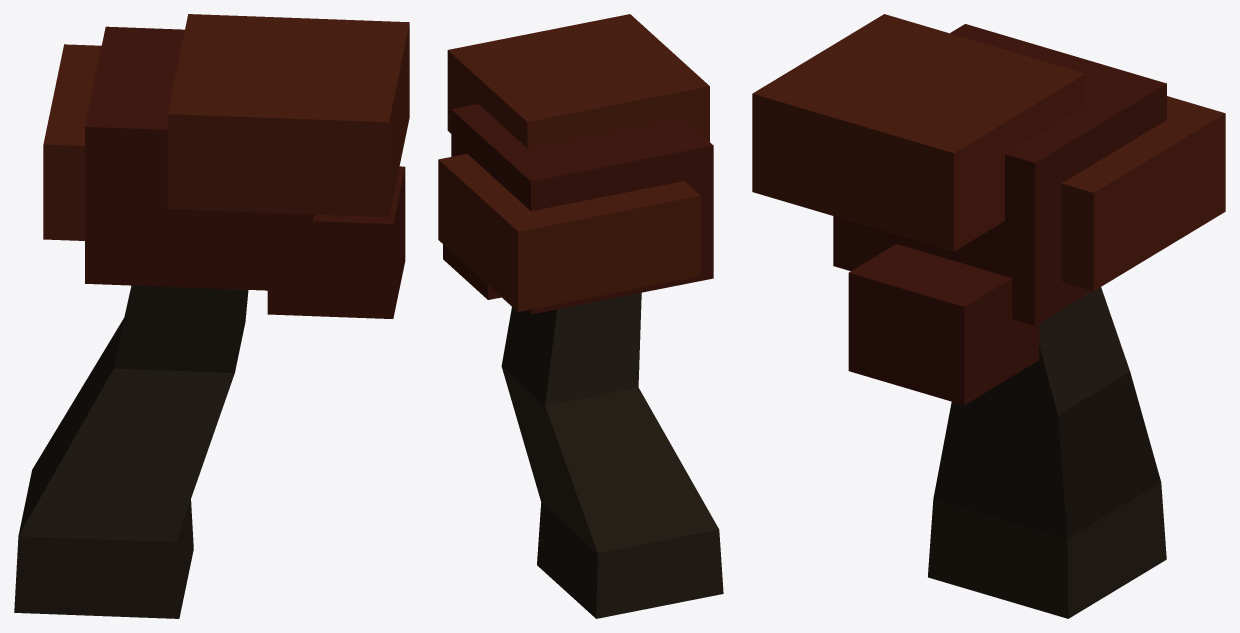
File: tree3.FBX
3 views of the same model, side by side, from view 1: azimuth 30°, elevation 25°; view 2: azimuth 150°, elevation 25°; view 3: azimuth 270°, elevation 25° (orthographic). The views are drawn at different scales.
Visible parts, largest first — view 1: Box215, Box229, Box228, Box230, Box227; view 2: Box215, Box227, Box229, Box228, Box230; view 3: Box215, Box229, Box228, Box230, Box227.
Part boxes in pixels (x1,y1,x2,y2): Box215: (14, 285, 248, 618); Box229: (167, 14, 409, 217); Box228: (85, 26, 313, 291); Box230: (267, 166, 405, 318); Box227: (43, 44, 101, 240); Box215: (501, 292, 723, 618); Box227: (438, 154, 700, 311); Box229: (447, 14, 709, 147); Box228: (451, 104, 713, 314); Box230: (443, 244, 501, 299); Box215: (928, 287, 1166, 618); Box229: (752, 14, 1085, 251); Box228: (833, 24, 1166, 325); Box230: (848, 244, 1039, 405); Box227: (1061, 96, 1225, 291).
Size of the model in its own units: 7.2 by 10.07 by 7.9.
